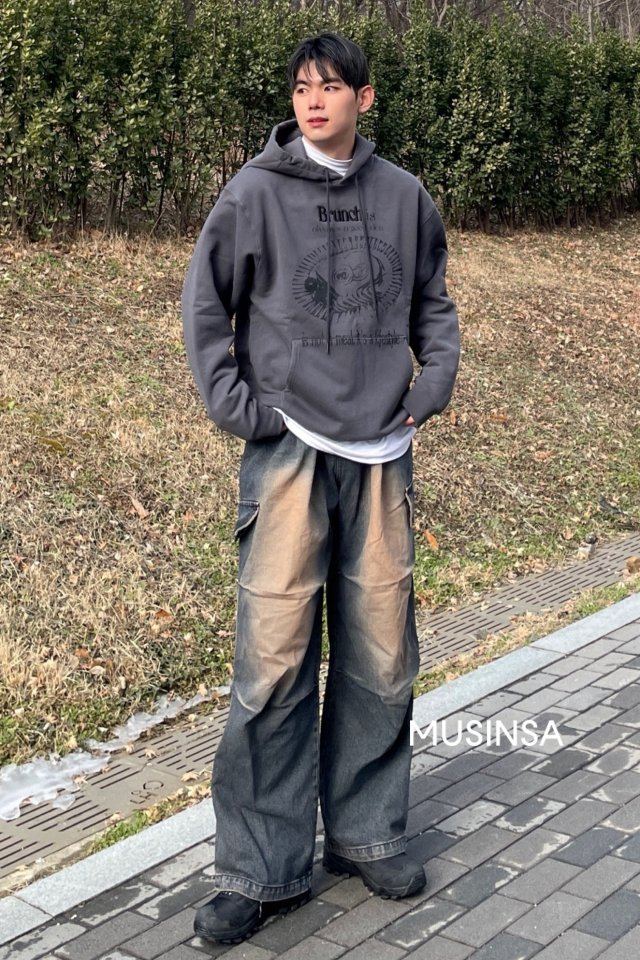Hoodie: (180, 115, 470, 443)
Jeans: (208, 431, 430, 881)
Shoes: (185, 837, 431, 943)
